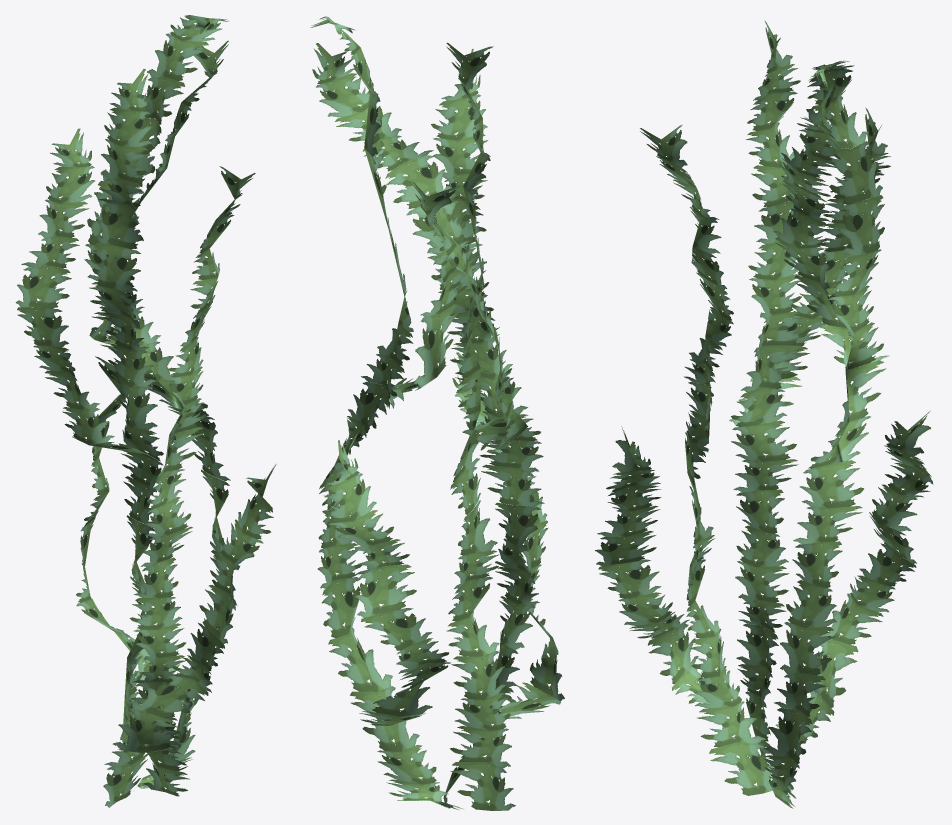
Rendered from Kelp_preview_3DS_simplified.glb.
3 views of the same model, side by side, from view 1: azimuth 30°, elevation 25°; view 2: azimuth 150°, elevation 25°; view 3: azimuth 270°, elevation 25° (orthographic). The views are drawn at different scales.
Parts seen in each view (by area): view 1: Marine Park Empire model; view 2: Marine Park Empire model; view 3: Marine Park Empire model.
Part boxes in pixels (x1,y1,x2,y2): Marine Park Empire model: (15,15,276,807); Marine Park Empire model: (310,16,564,810); Marine Park Empire model: (595,20,933,808).
Size of the model in its own units: 147 by 518 by 211.
Materials: 1 (1 with a texture image).
